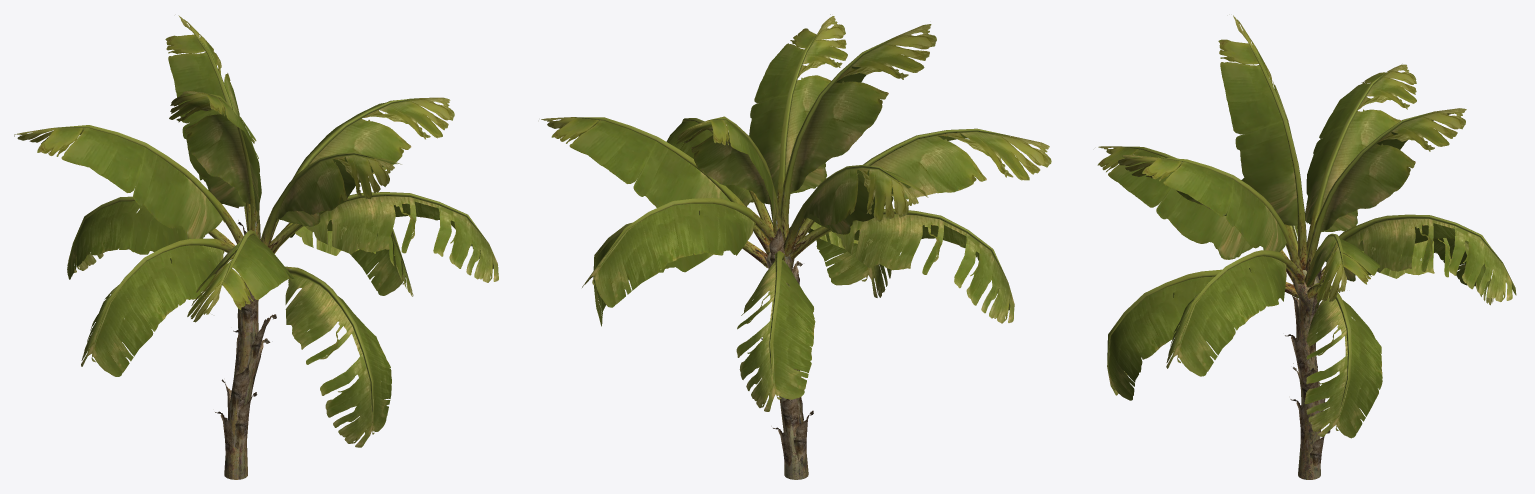
File: banana.glb
The picture shows the model from 3 angles, left to right: view 1: azimuth 30°, elevation 25°; view 2: azimuth 150°, elevation 25°; view 3: azimuth 270°, elevation 25°; orthographic projection. The views are drawn at different scales.
Parts seen in each view (by area): view 1: Tree_1, Tree_2, Tree_4, Tree_3, Tree_0; view 2: Tree_1, Tree_2, Tree_4, Tree_3, Tree_0; view 3: Tree_1, Tree_2, Tree_4, Tree_3, Tree_0.
Part boxes in pixels (x1,y1,x2,y2): Tree_1: (14, 15, 454, 322); Tree_2: (67, 117, 498, 447); Tree_4: (54, 33, 488, 414); Tree_3: (215, 220, 276, 458); Tree_0: (224, 282, 258, 479); Tree_1: (541, 14, 1051, 234); Tree_2: (582, 121, 1014, 411); Tree_4: (573, 33, 1011, 376); Tree_3: (755, 227, 813, 468); Tree_0: (767, 252, 808, 479); Tree_1: (1097, 15, 1466, 301); Tree_2: (1107, 178, 1516, 438); Tree_4: (1107, 42, 1501, 407); Tree_3: (1285, 247, 1330, 470); Tree_0: (1293, 270, 1320, 479).
Bounding box in the file's own units: 2.89 × 2.89 × 2.74.
5 materials, 5 textured.
